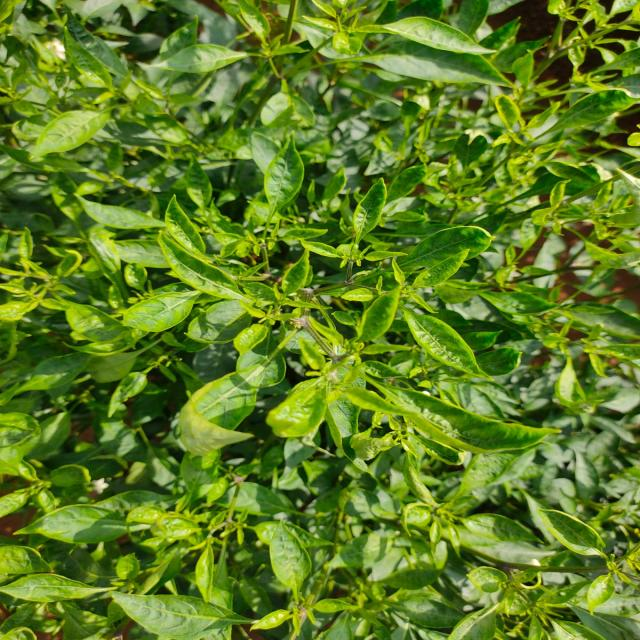Moko: (102, 204, 408, 452), (414, 72, 636, 230), (0, 7, 208, 164), (110, 439, 250, 577), (217, 0, 408, 93), (306, 479, 479, 569), (444, 569, 590, 640)
